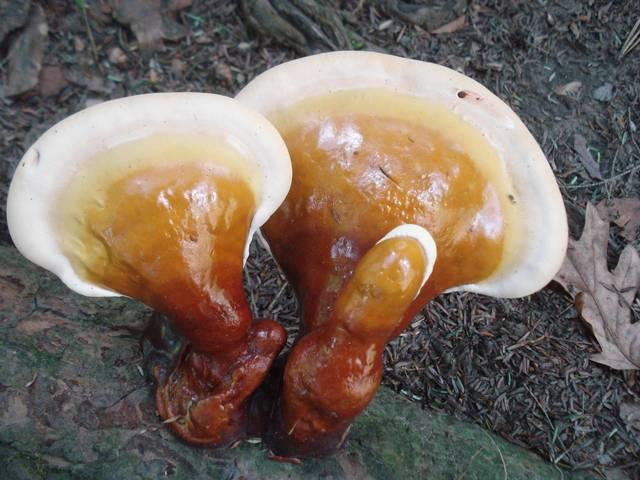poisonous_mushroom: (231, 48, 569, 461), (5, 89, 293, 448)
